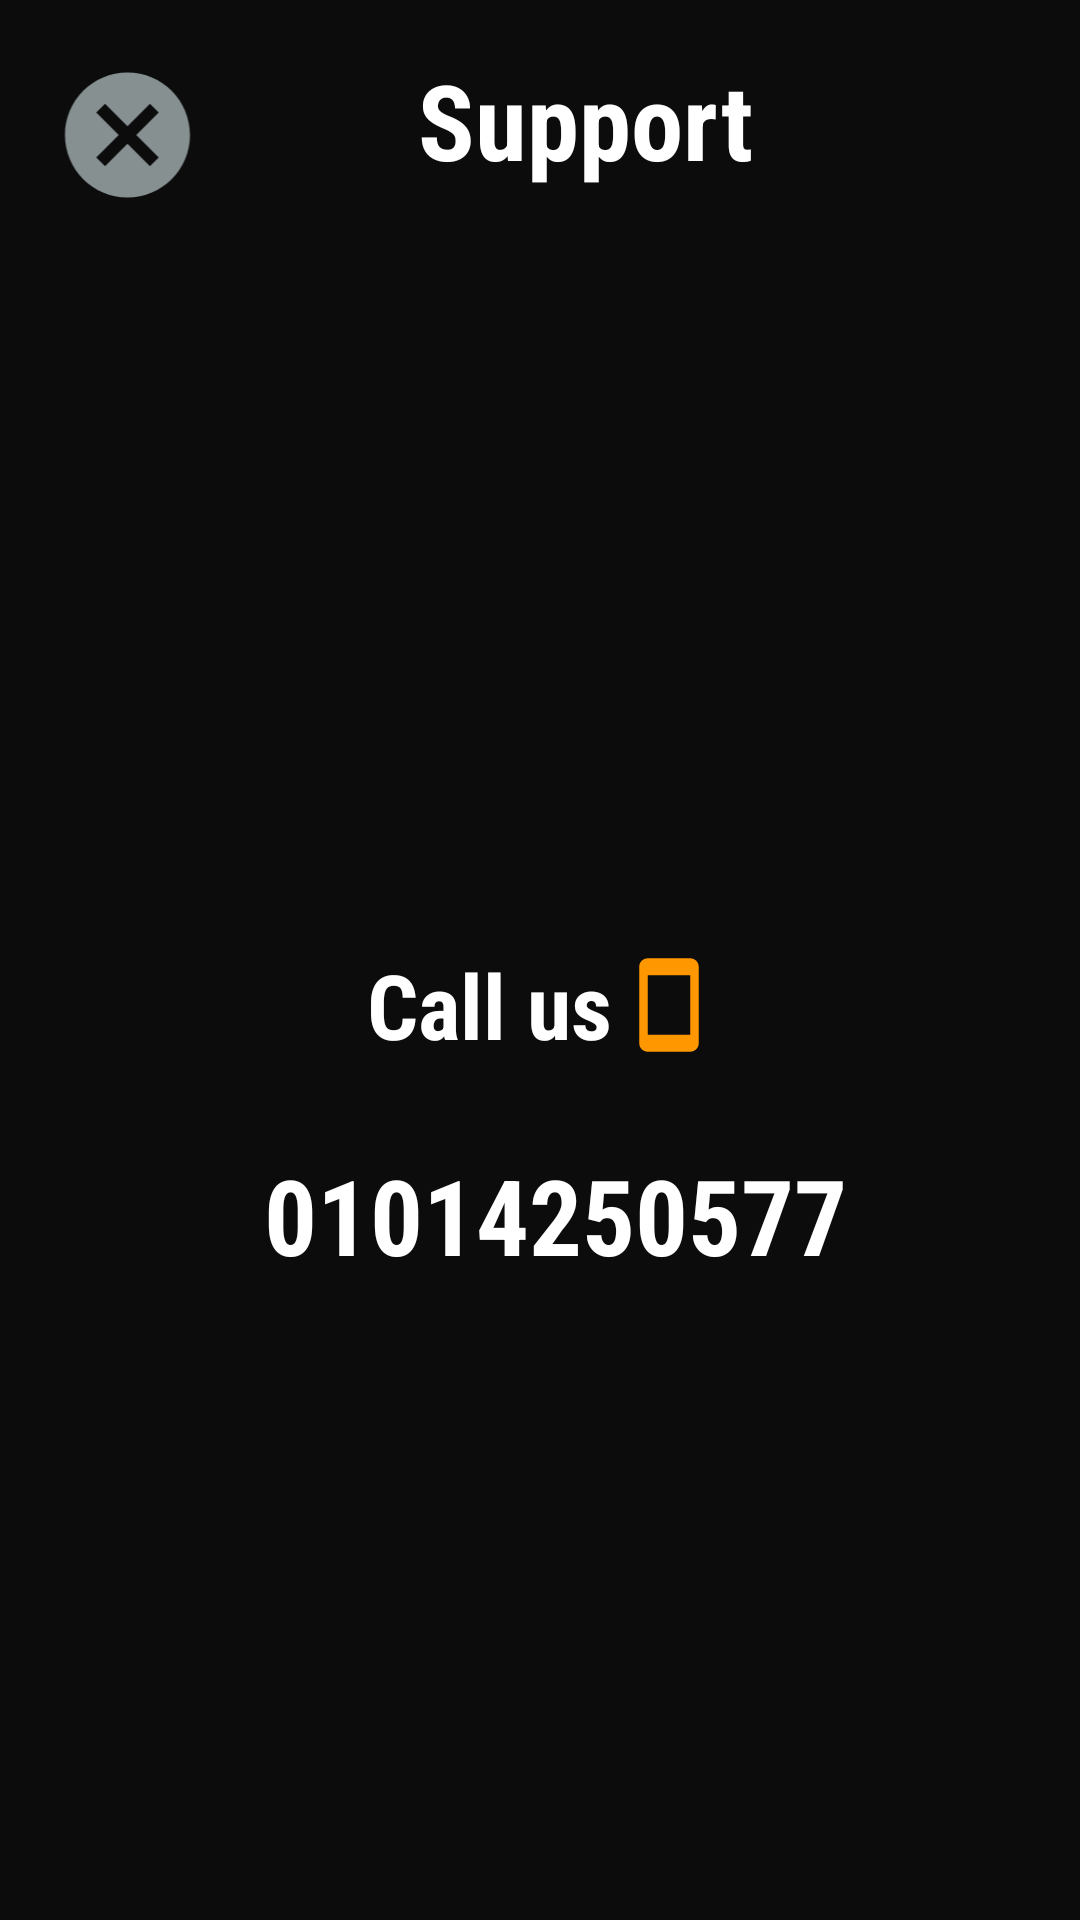

Point at icon controls on the screen. Image size 1080*1920, points as [x,y].
cancel: [127,135]
